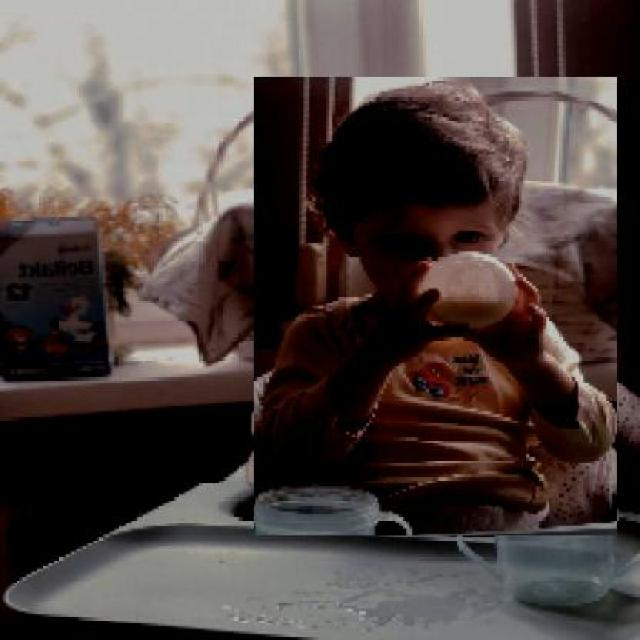child: (252, 77, 617, 537)
